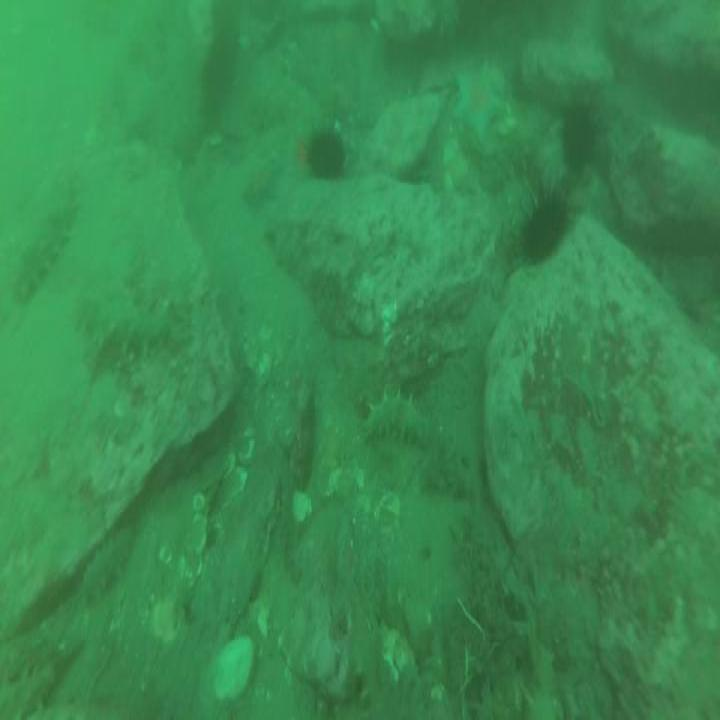echinus: (512, 185, 570, 272), (559, 92, 598, 182), (203, 34, 242, 112), (303, 121, 349, 187)
holothurian: (8, 156, 79, 313), (76, 290, 200, 364), (347, 597, 412, 720), (74, 517, 136, 610), (358, 388, 435, 446), (0, 656, 63, 720)
scallop: (210, 635, 255, 704)
